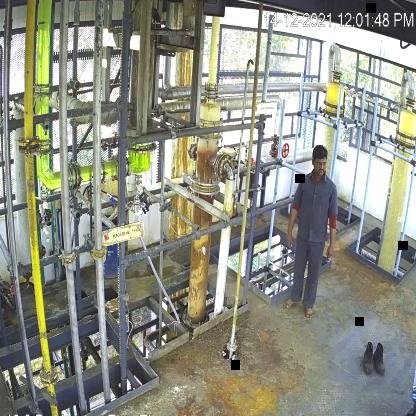no_shoes: (282, 298, 300, 309), (302, 306, 314, 321)
shoes: (361, 340, 377, 376), (374, 343, 387, 374)
